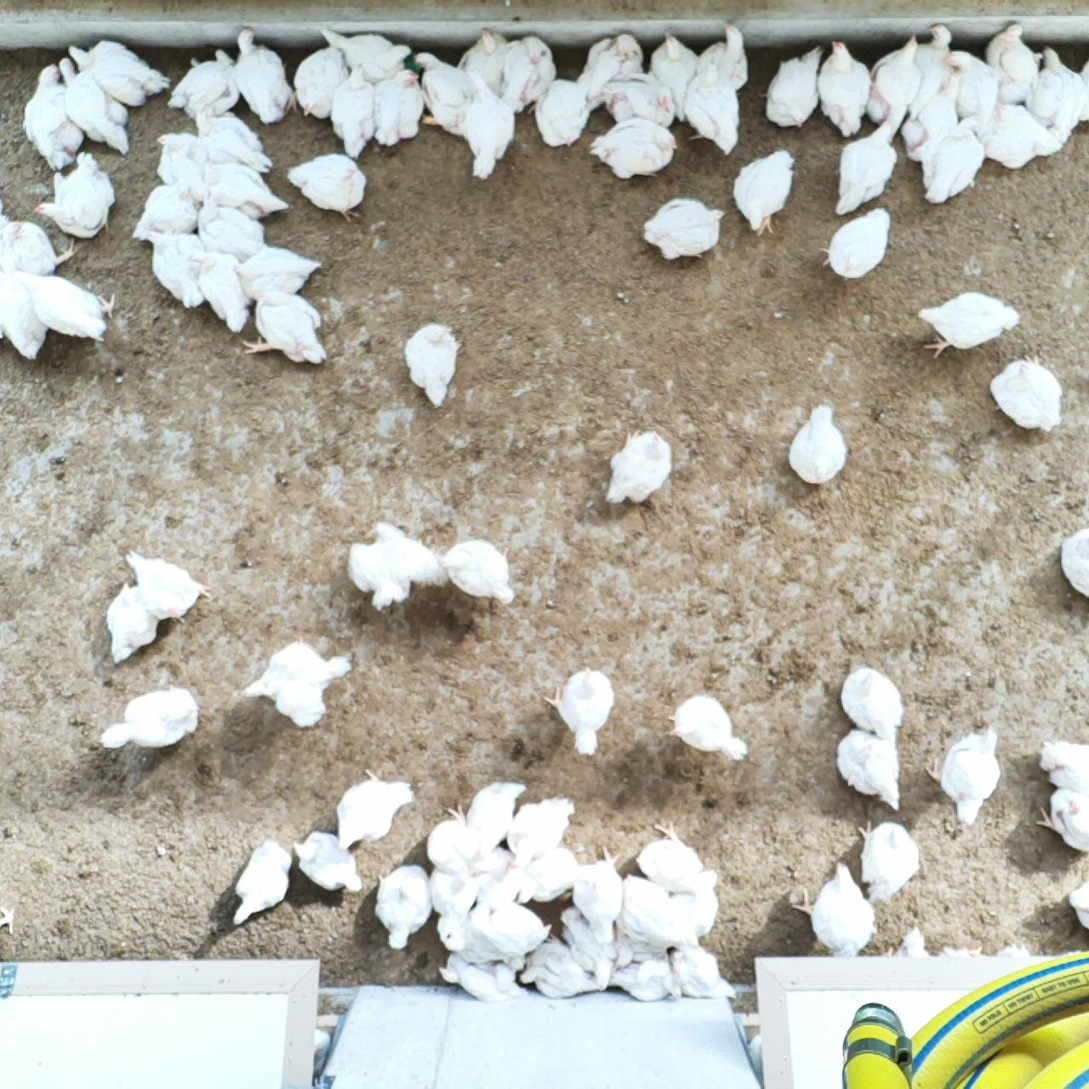chicken: (239, 634, 352, 728), (915, 282, 1021, 363), (923, 723, 1004, 827), (790, 859, 875, 957), (31, 151, 119, 245), (96, 681, 202, 759), (54, 54, 133, 157), (66, 36, 171, 110), (16, 270, 118, 345), (911, 114, 988, 210), (334, 766, 416, 856), (541, 661, 616, 758), (21, 59, 86, 170), (123, 547, 214, 626), (960, 102, 1065, 170), (663, 688, 752, 767), (833, 120, 904, 218), (988, 349, 1067, 437), (225, 838, 296, 931), (244, 291, 331, 365), (187, 159, 292, 220), (234, 25, 298, 125), (287, 147, 371, 223), (435, 534, 519, 609), (568, 842, 629, 945), (590, 113, 681, 182), (731, 147, 798, 240), (834, 727, 908, 811), (191, 100, 275, 174), (638, 820, 720, 895), (603, 424, 674, 510), (185, 245, 252, 335), (318, 22, 412, 86), (517, 931, 597, 1006), (857, 816, 922, 908), (814, 38, 873, 138), (759, 45, 825, 134), (1025, 46, 1086, 142), (367, 518, 450, 588), (372, 859, 435, 951), (817, 204, 894, 279), (641, 194, 727, 261), (837, 663, 909, 743), (620, 868, 690, 950), (508, 793, 578, 874), (785, 402, 853, 485), (103, 580, 163, 674), (403, 320, 464, 412), (684, 62, 741, 156), (458, 90, 516, 182), (867, 32, 922, 129), (168, 45, 242, 117), (195, 187, 266, 262), (290, 829, 366, 899), (984, 21, 1044, 109), (235, 243, 323, 303), (0, 217, 85, 279), (325, 58, 375, 162), (0, 273, 56, 363), (437, 954, 530, 1007), (534, 75, 598, 152), (500, 31, 560, 113), (559, 907, 616, 993), (901, 83, 963, 162), (649, 30, 701, 124), (468, 899, 554, 955), (145, 228, 203, 311), (346, 539, 411, 613), (150, 126, 211, 202), (371, 63, 424, 150), (940, 45, 999, 123), (603, 71, 681, 130), (294, 44, 353, 122), (471, 775, 524, 861), (131, 183, 202, 247), (912, 16, 956, 118), (585, 31, 646, 103), (414, 49, 468, 130), (1029, 786, 1089, 855), (669, 945, 739, 1002), (697, 19, 753, 89), (514, 846, 581, 904), (457, 28, 514, 96), (607, 946, 674, 1003), (427, 802, 477, 877), (427, 864, 474, 940), (667, 876, 721, 940), (472, 844, 523, 897), (1039, 738, 1089, 790), (1058, 525, 1089, 598), (1066, 875, 1089, 932)
